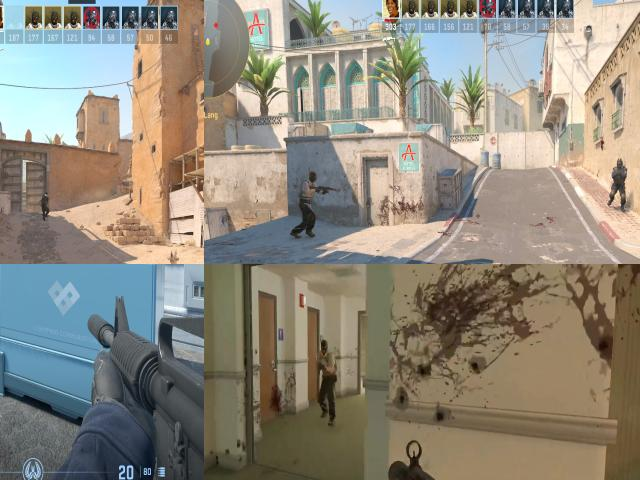CT: (611, 159, 628, 209), (41, 192, 50, 221)
CT-Head: (615, 160, 624, 172), (45, 192, 48, 196)
T: (311, 330, 340, 405), (298, 172, 320, 238)
T-Head: (317, 338, 332, 360), (308, 172, 318, 186)
